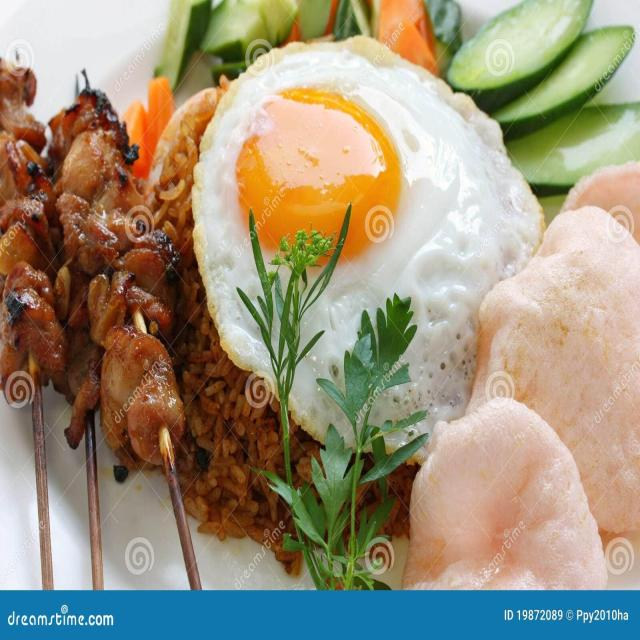Nasi Goreng: (189, 34, 545, 465)
